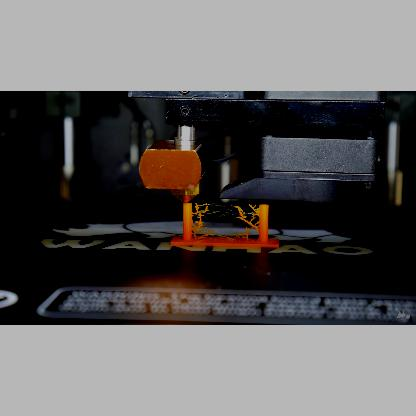fail: (192, 202, 260, 236)
